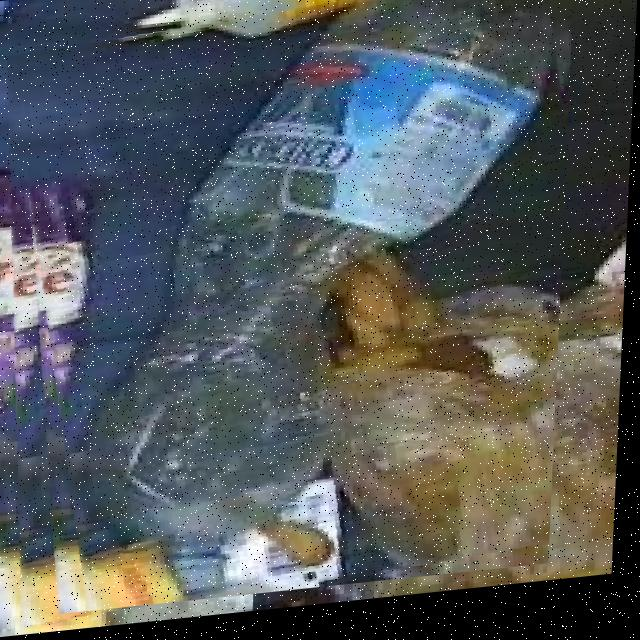plasticbottle: (0, 0, 575, 620)
